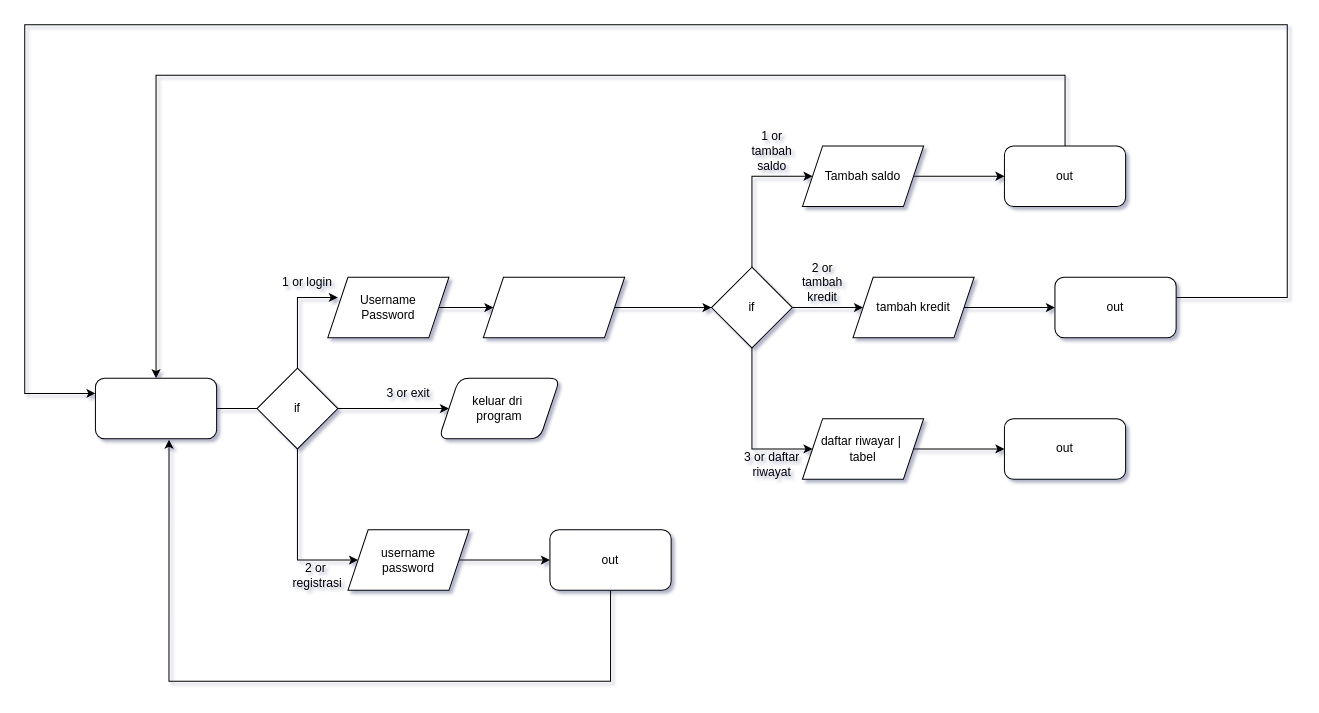
The diagram is 1319 pixels wide and 713 high, and some of its shapes have lost their labels. The shapes that lost their labels are listed below. From the top down, each one's centre as x and y in pixels, then its label:
At [553,307]: "1. Tambah saldo 2. tambah kredit 3. dafatr transaksi".
At [155,408]: "Home 1. Login 2. Registrasi 3. Exit".
